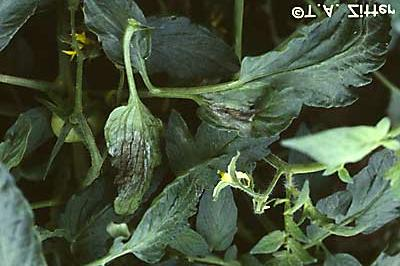Tomato leaf late blight: (189, 19, 390, 140), (104, 84, 167, 220), (122, 172, 205, 265)
